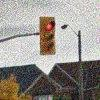traffic lights: (40, 13, 56, 57)
